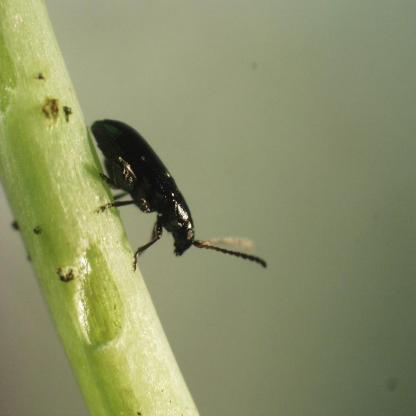beetle: (80, 111, 239, 298)
